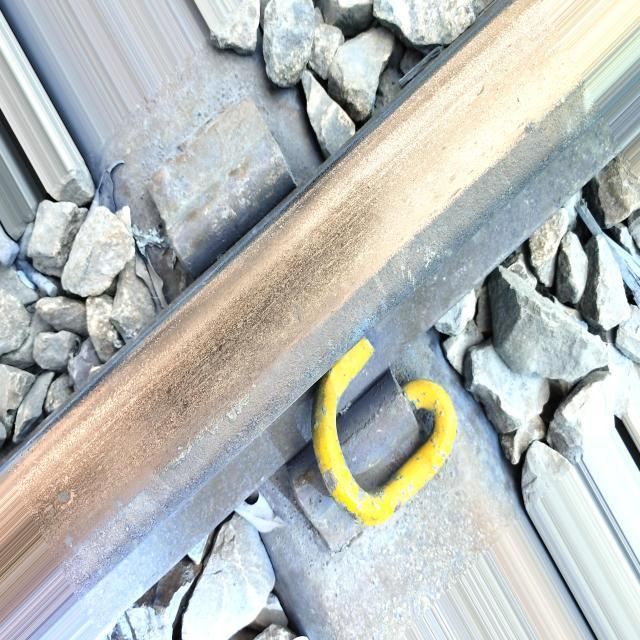Good Fasteners: (289, 339, 457, 551)
Missing Fastener: (149, 99, 295, 277)
